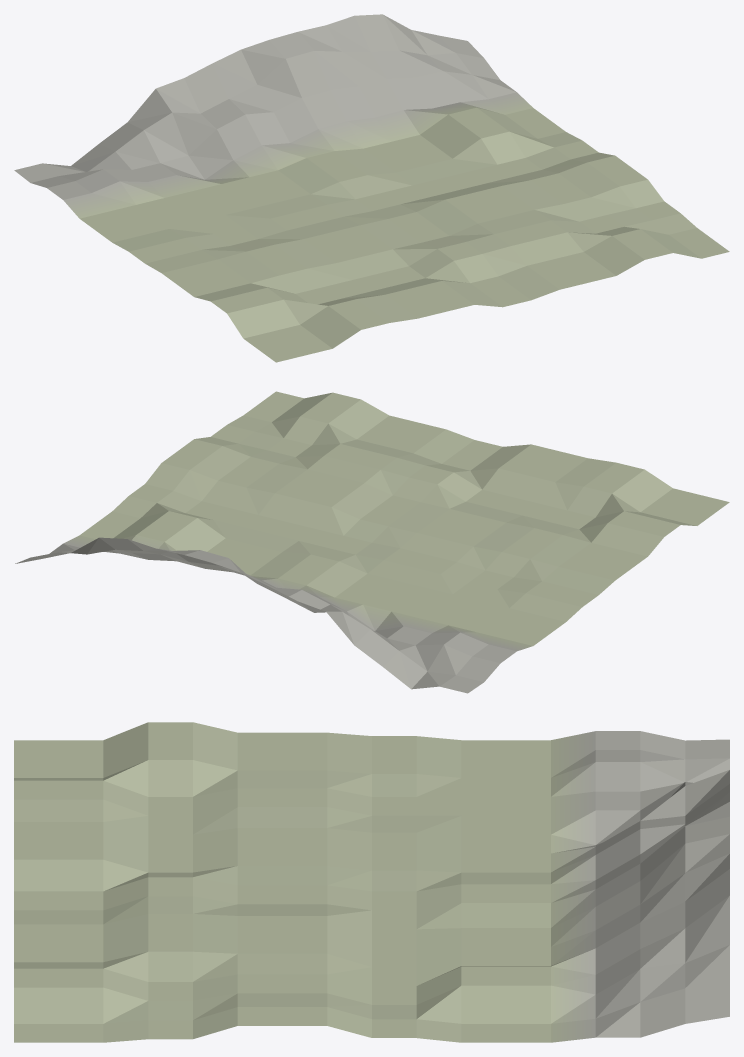
3 renders of one model, top to bottom at view 1: azimuth 30°, elevation 25°; view 2: azimuth 150°, elevation 25°; view 3: azimuth 270°, elevation 25°, orthographic. The views are drawn at different scales.
Bounding box in the file's own units: 32 × 5.47 × 32.
